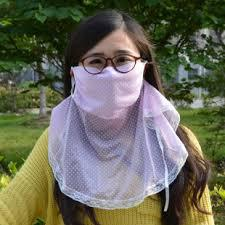OK: (77, 48, 143, 116)
